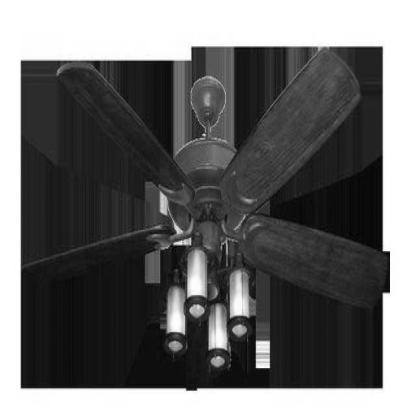ceiling-fan: (22, 59, 388, 314)
